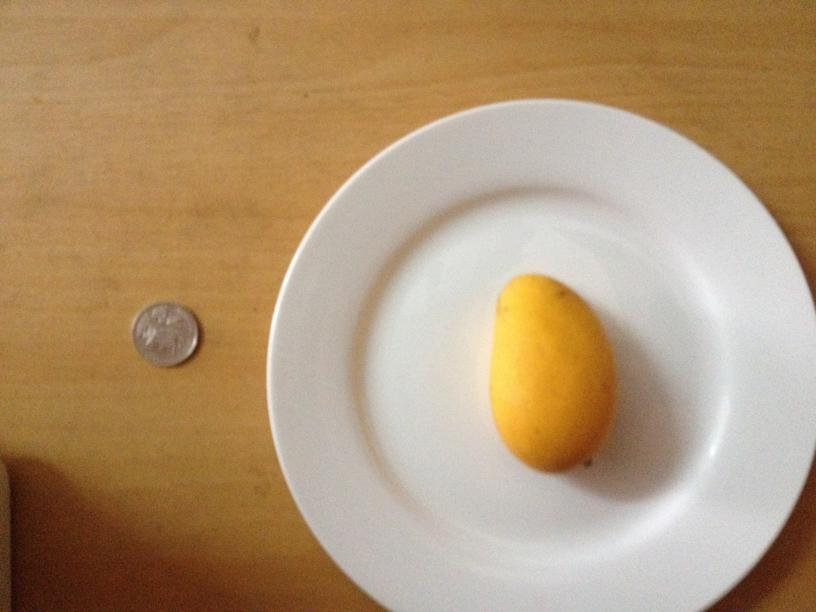coin: (132, 299, 200, 367)
mango: (486, 274, 614, 473)
